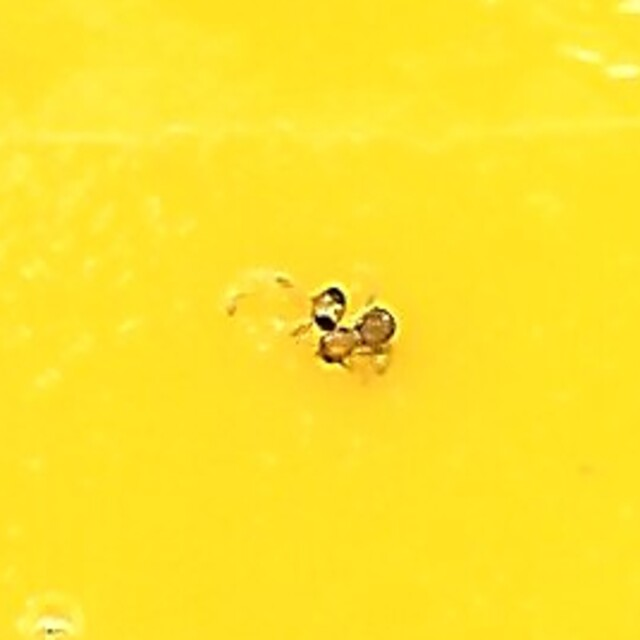Hymenoptera: (239, 269, 401, 371)
